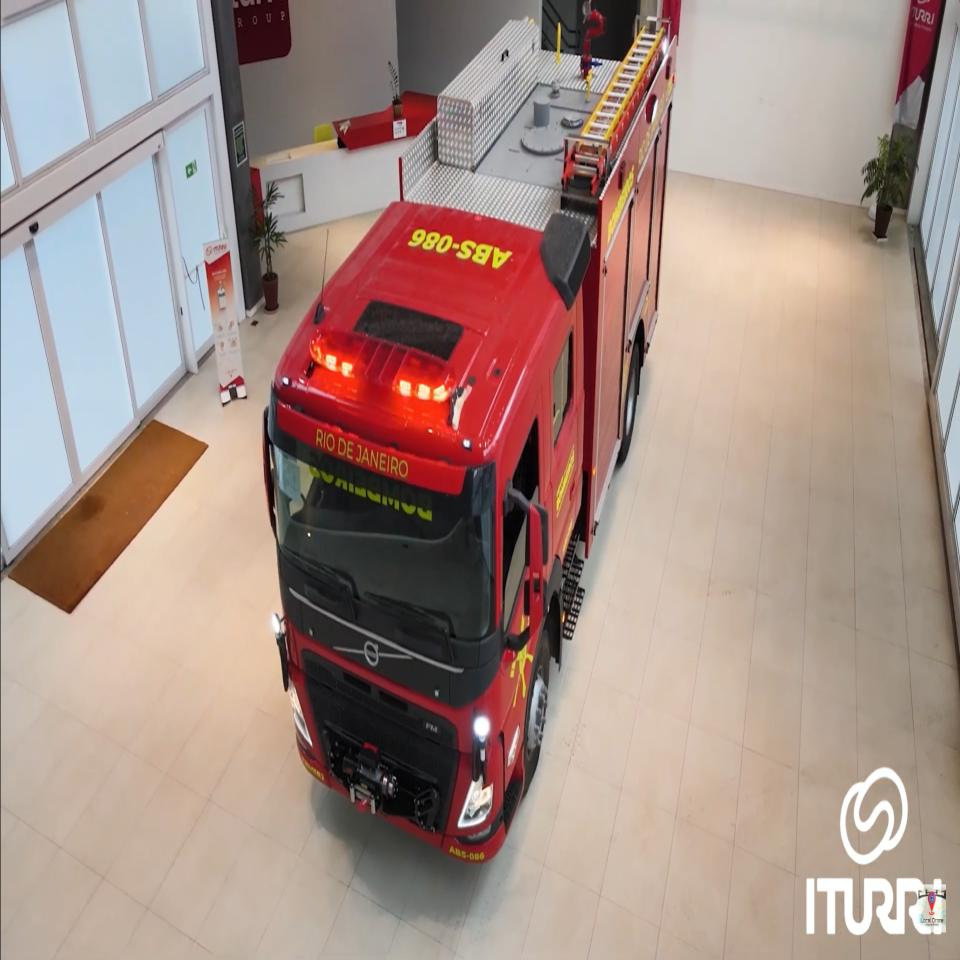viatura: (261, 0, 677, 865)
